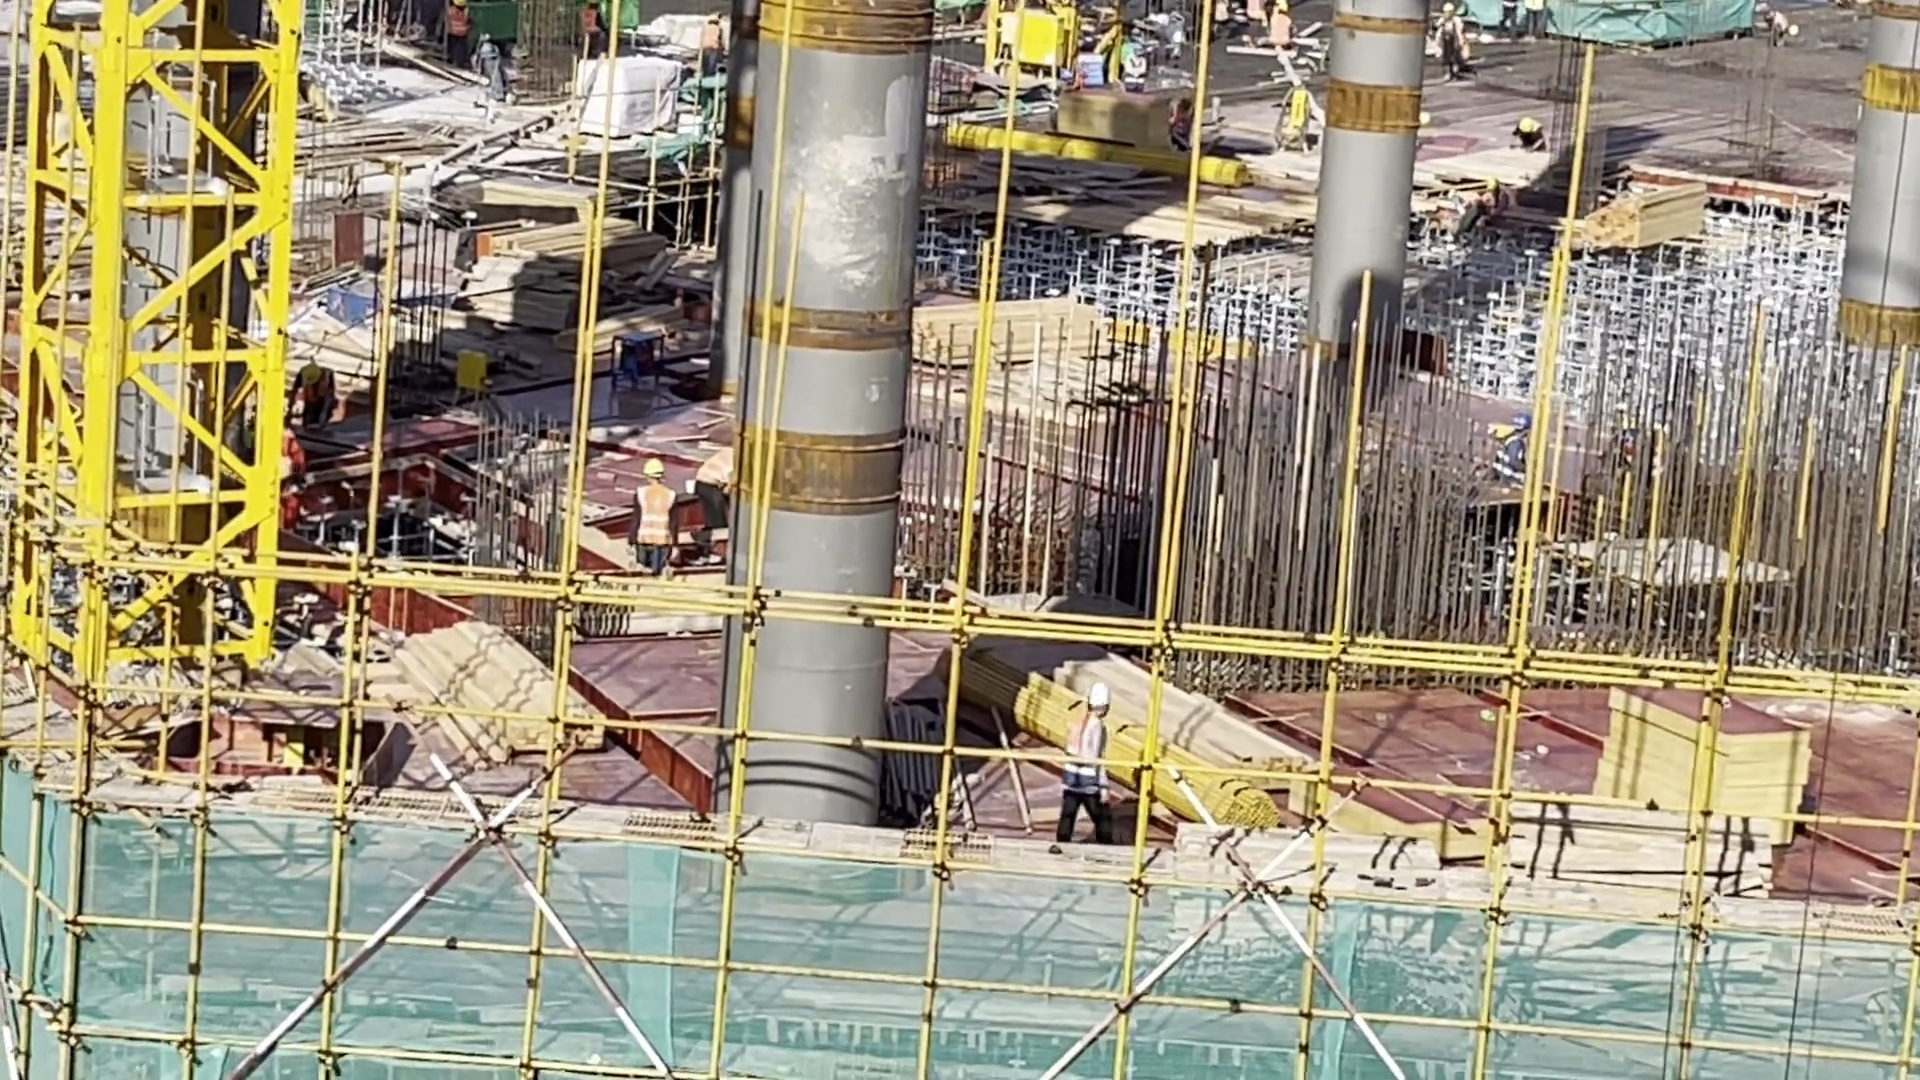board: (1605, 681, 1820, 842), (467, 224, 652, 338)
helmet: (1084, 683, 1115, 711), (646, 460, 669, 475)
person: (1047, 674, 1123, 856), (615, 453, 682, 589)
vest: (1066, 716, 1109, 804), (636, 485, 673, 545)
wood: (1119, 673, 1309, 824), (397, 619, 589, 754), (913, 288, 1117, 365), (1563, 185, 1723, 251)
